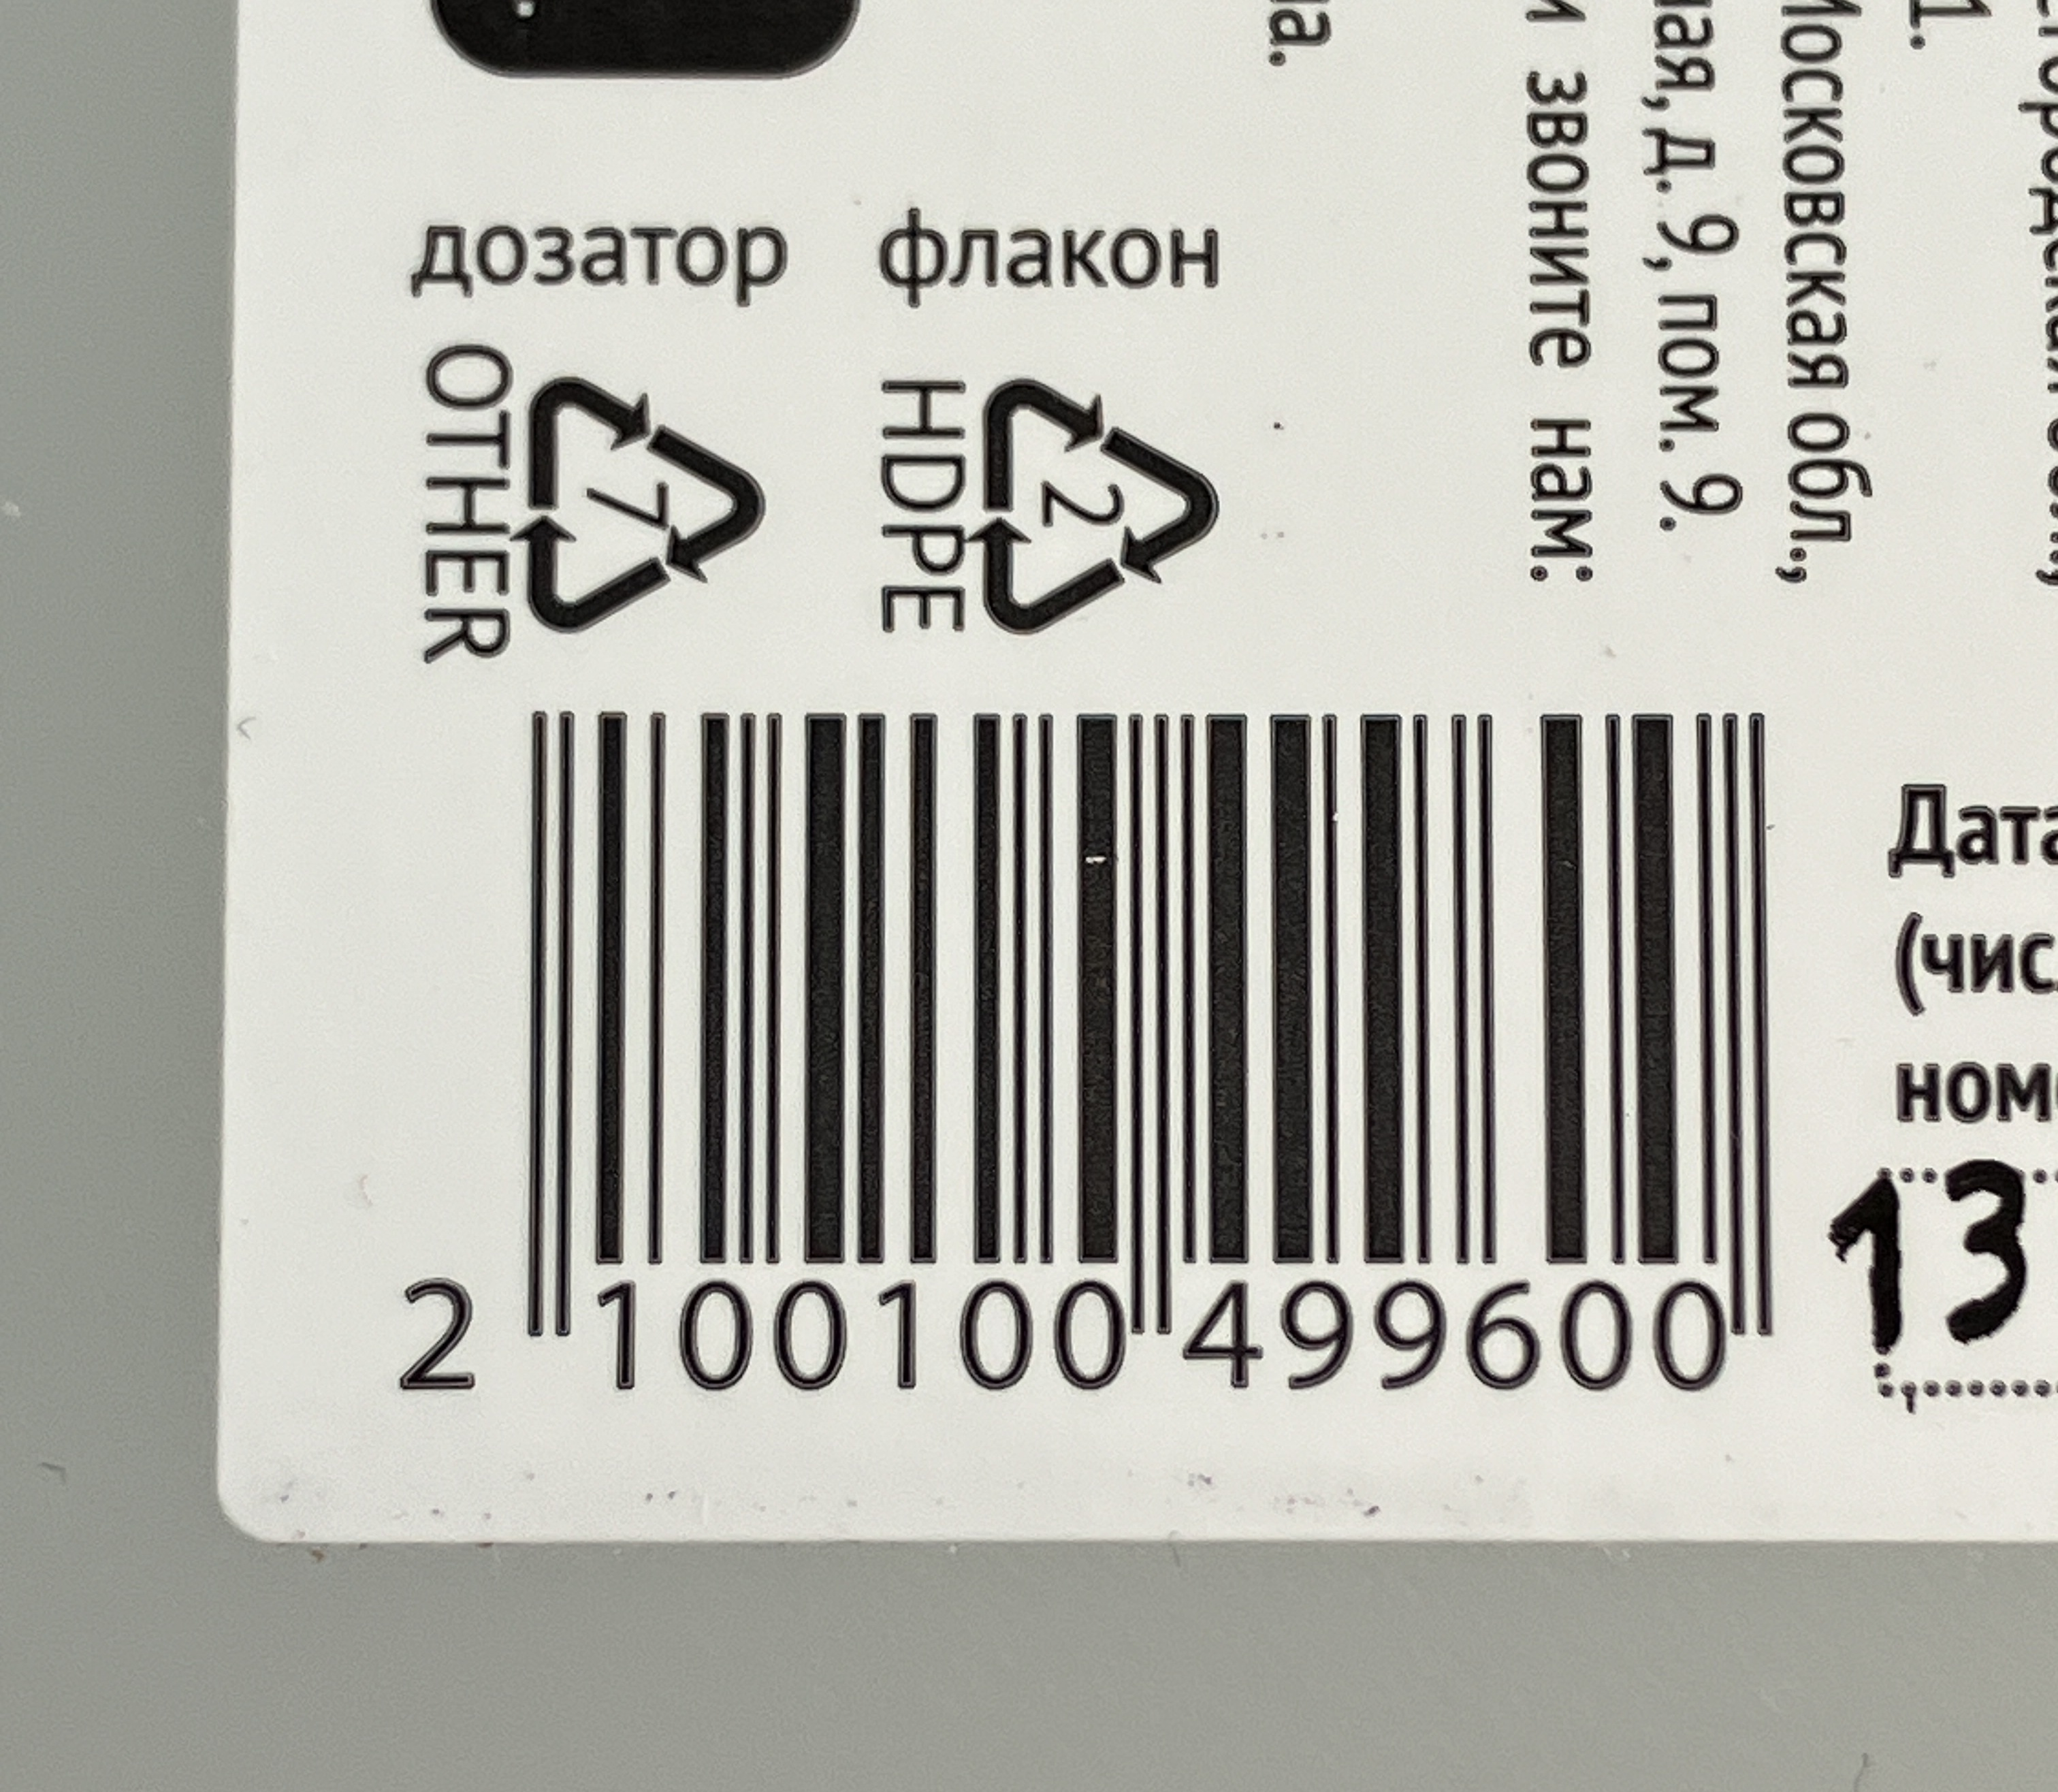1d: (528, 712, 1773, 1337)
